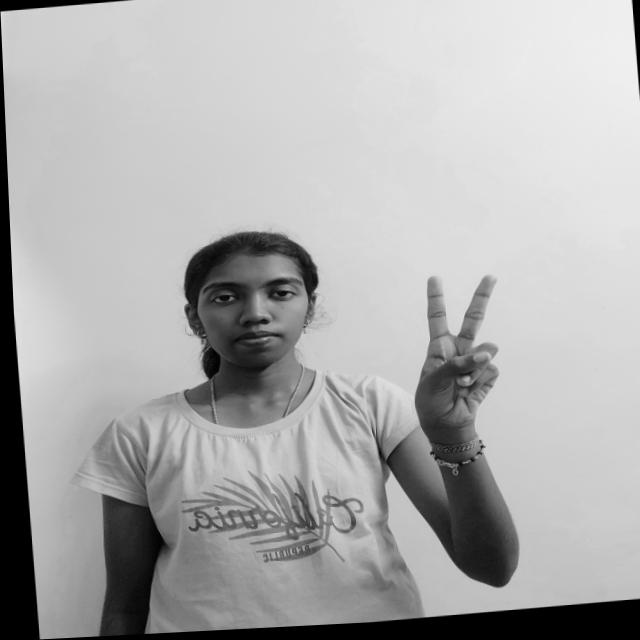Victory: (396, 274, 513, 445)
